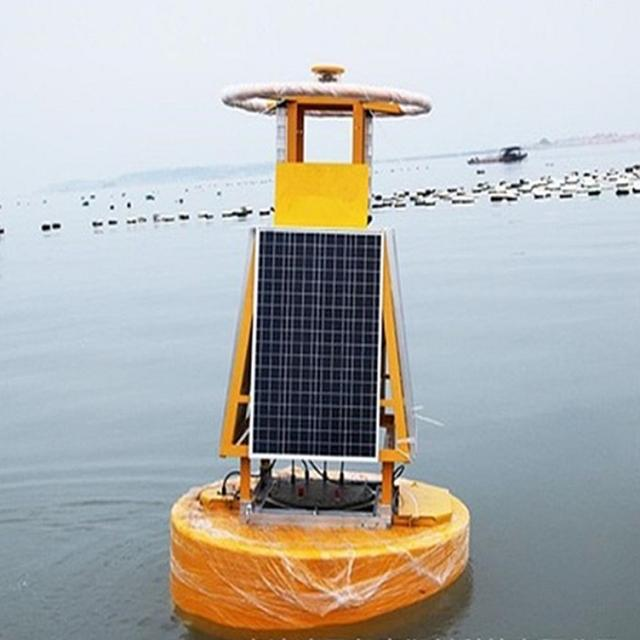buoy: (162, 57, 479, 631)
